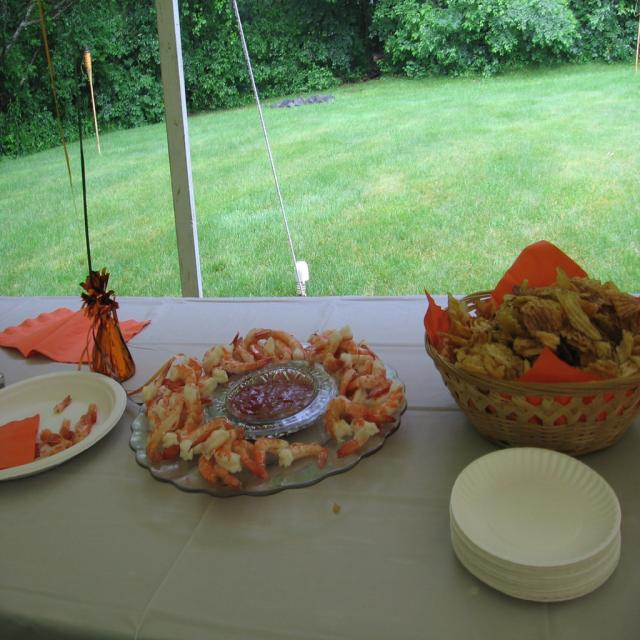non-organic waste: (453, 424, 623, 604)
